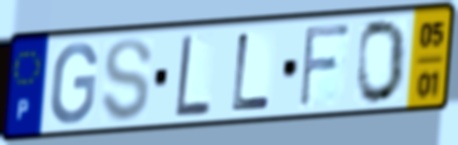F: (296, 21, 353, 112)
G: (47, 40, 100, 127)
L: (229, 30, 274, 114), (173, 32, 213, 119)
O: (355, 16, 409, 107)
S: (98, 35, 155, 125)
